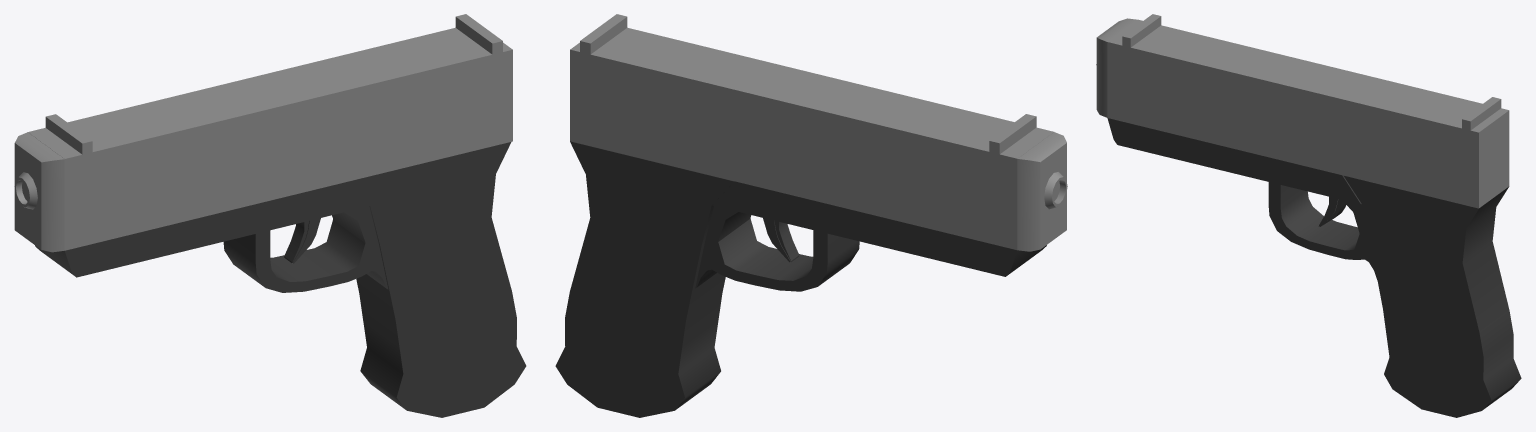
Rendered from gun.fbx.
3 renders of one model, left to right at view 1: azimuth 30°, elevation 25°; view 2: azimuth 150°, elevation 25°; view 3: azimuth 330°, elevation 25°, orthographic. The views are drawn at different scales.
Visible parts, largest first — view 1: Box001; view 2: Box001; view 3: Box001.
Boxes of the visible parts, <box> form: Box001: <box>14,14,526,417</box>; Box001: <box>555,14,1067,417</box>; Box001: <box>1096,14,1521,417</box>.
Size of the model in its own units: 19.78 by 14.1 by 2.62.
